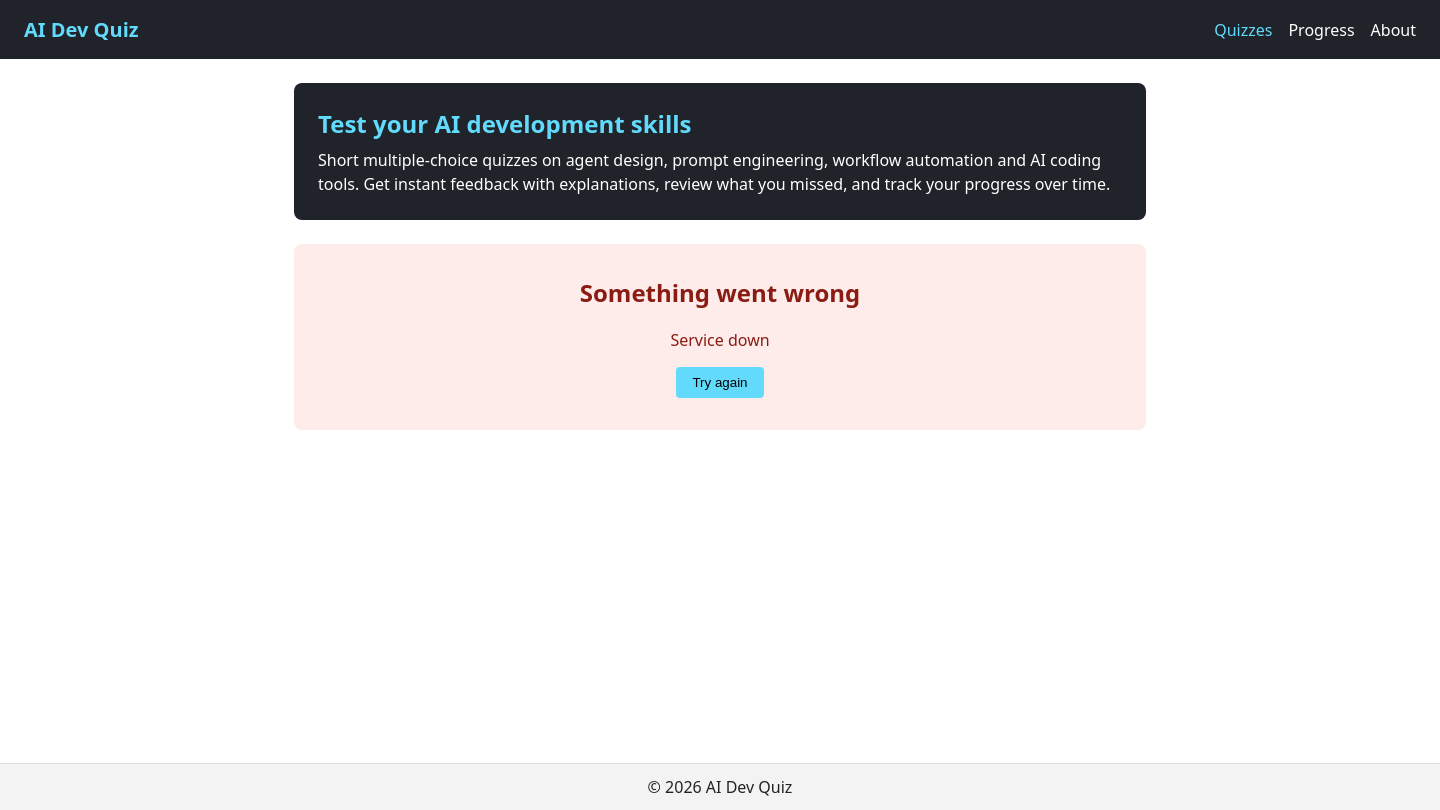
Scenario: Home page › shows an error and recovers after retry
The width and height of the screenshot is (1440, 810).
Check: the message shows "Service down", box [670,329,770,351]
Click the button "Try again" at (720, 382), box [676,367,764,398]
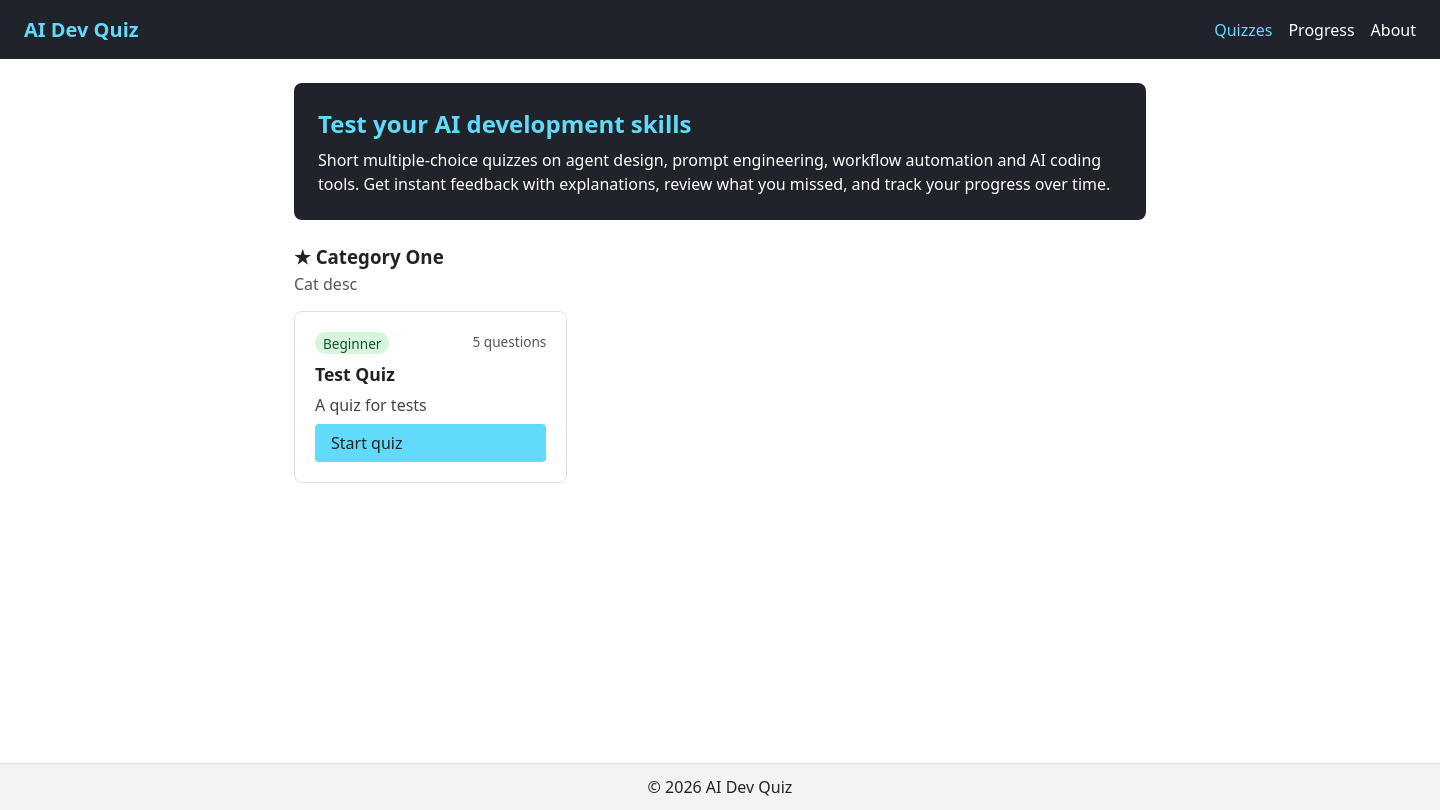
Check: the heading "★ Category One" is shown, box [294,244,444,269]
